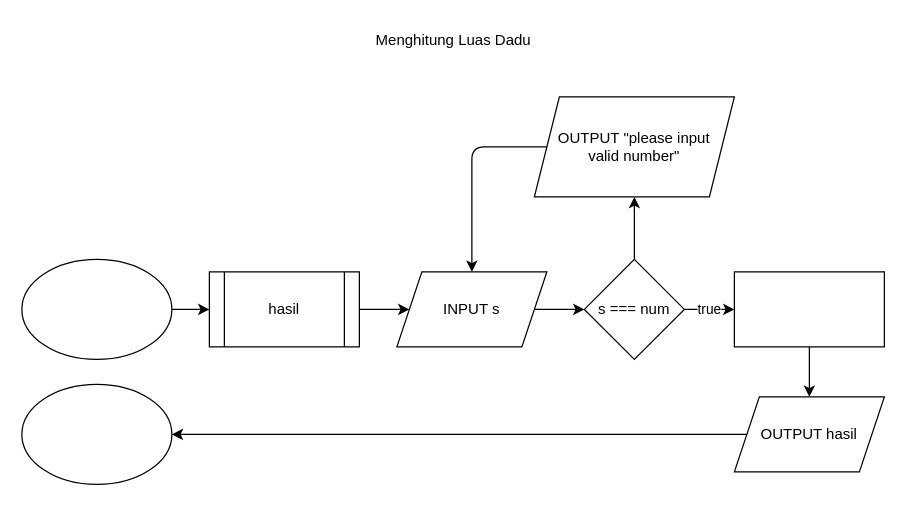
Image size: 906x506. Some labels were removed from this diagram. The centre of each missing label's shape, as x and y in pixels:
"END" goes at (96,433).
"hasil = 6*s*s" goes at (808,309).
"START" goes at (96,308).
